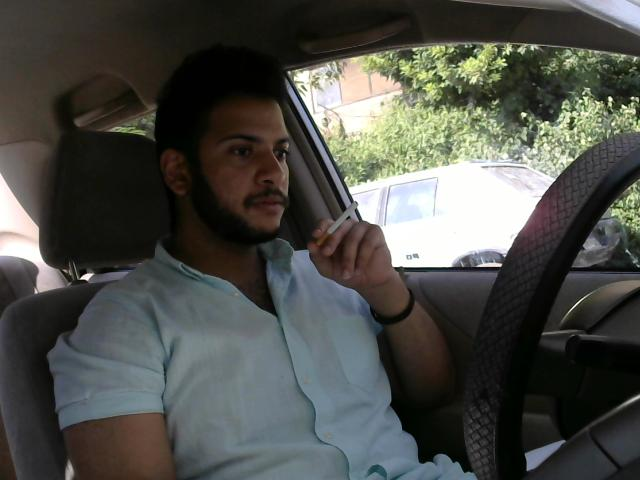Smoking: (312, 203, 358, 254)
